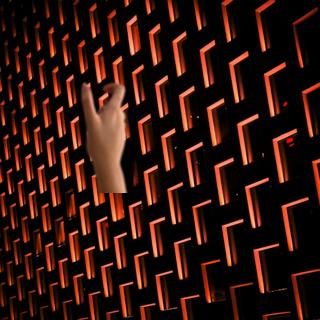Irritated: (75, 66, 133, 189)
